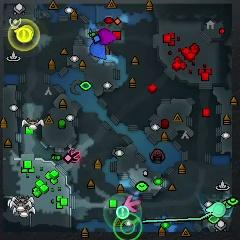Other: (114, 212, 143, 240), (17, 27, 33, 44), (116, 205, 128, 220)
p1: (88, 42, 107, 60)
p2: (205, 201, 224, 217)
p3: (97, 29, 116, 45)
p4: (14, 24, 35, 39)
x1: (124, 194, 142, 215)
x1Clone: (67, 148, 80, 163)
